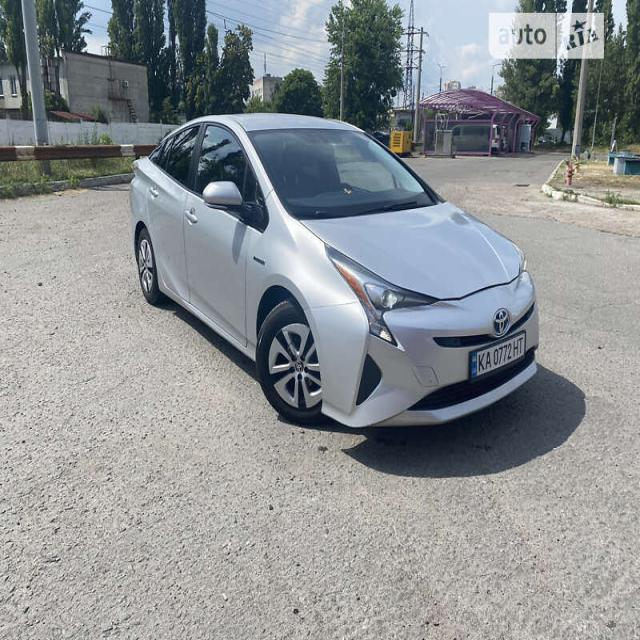plate: (469, 326, 530, 382)
